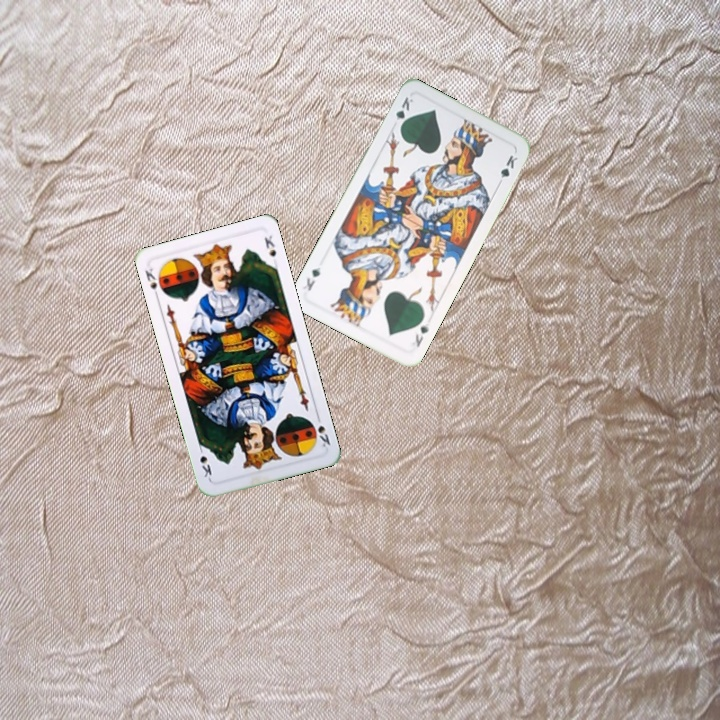GK: (391, 93, 416, 132), (411, 319, 432, 349)
SK: (141, 264, 167, 301), (312, 411, 333, 450)
